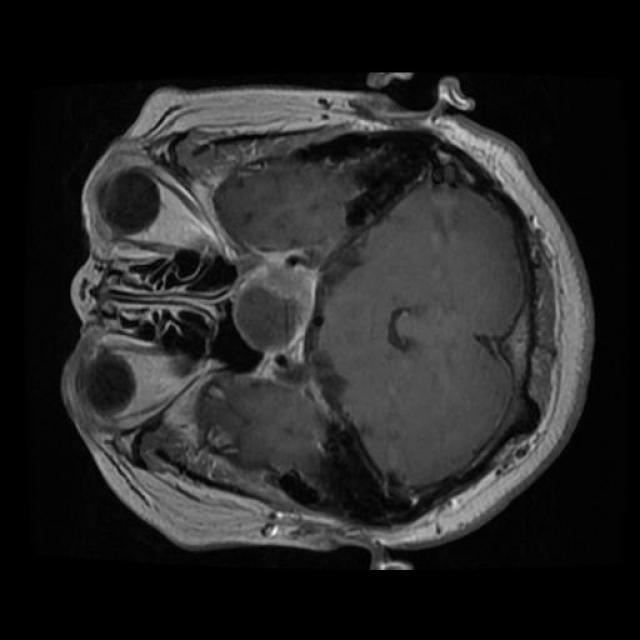Pituitary: (233, 258, 316, 354)
